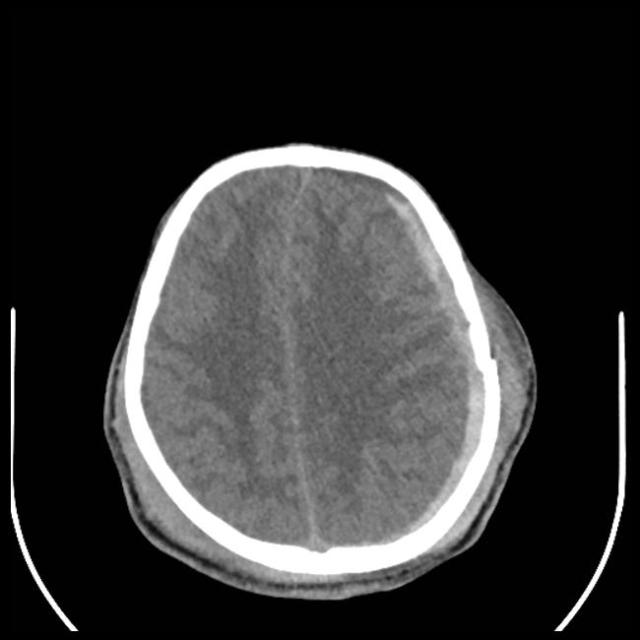lesion: (98, 138, 540, 600)
